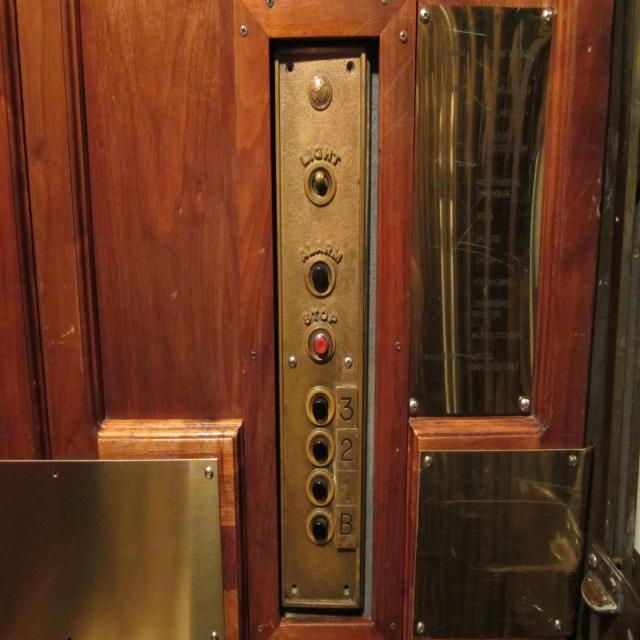1: (334, 466, 362, 512)
2: (333, 424, 360, 475)
3: (333, 381, 360, 432)
B: (332, 506, 360, 552)
bt_switch: (302, 158, 339, 207)
indicator: (302, 321, 342, 366), (301, 254, 339, 299), (306, 385, 336, 425), (305, 427, 335, 467), (305, 505, 333, 547), (306, 467, 336, 505)
